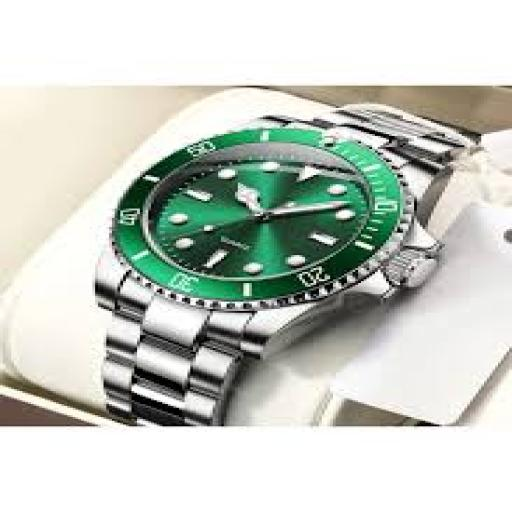KolSaati: (23, 82, 499, 426)
